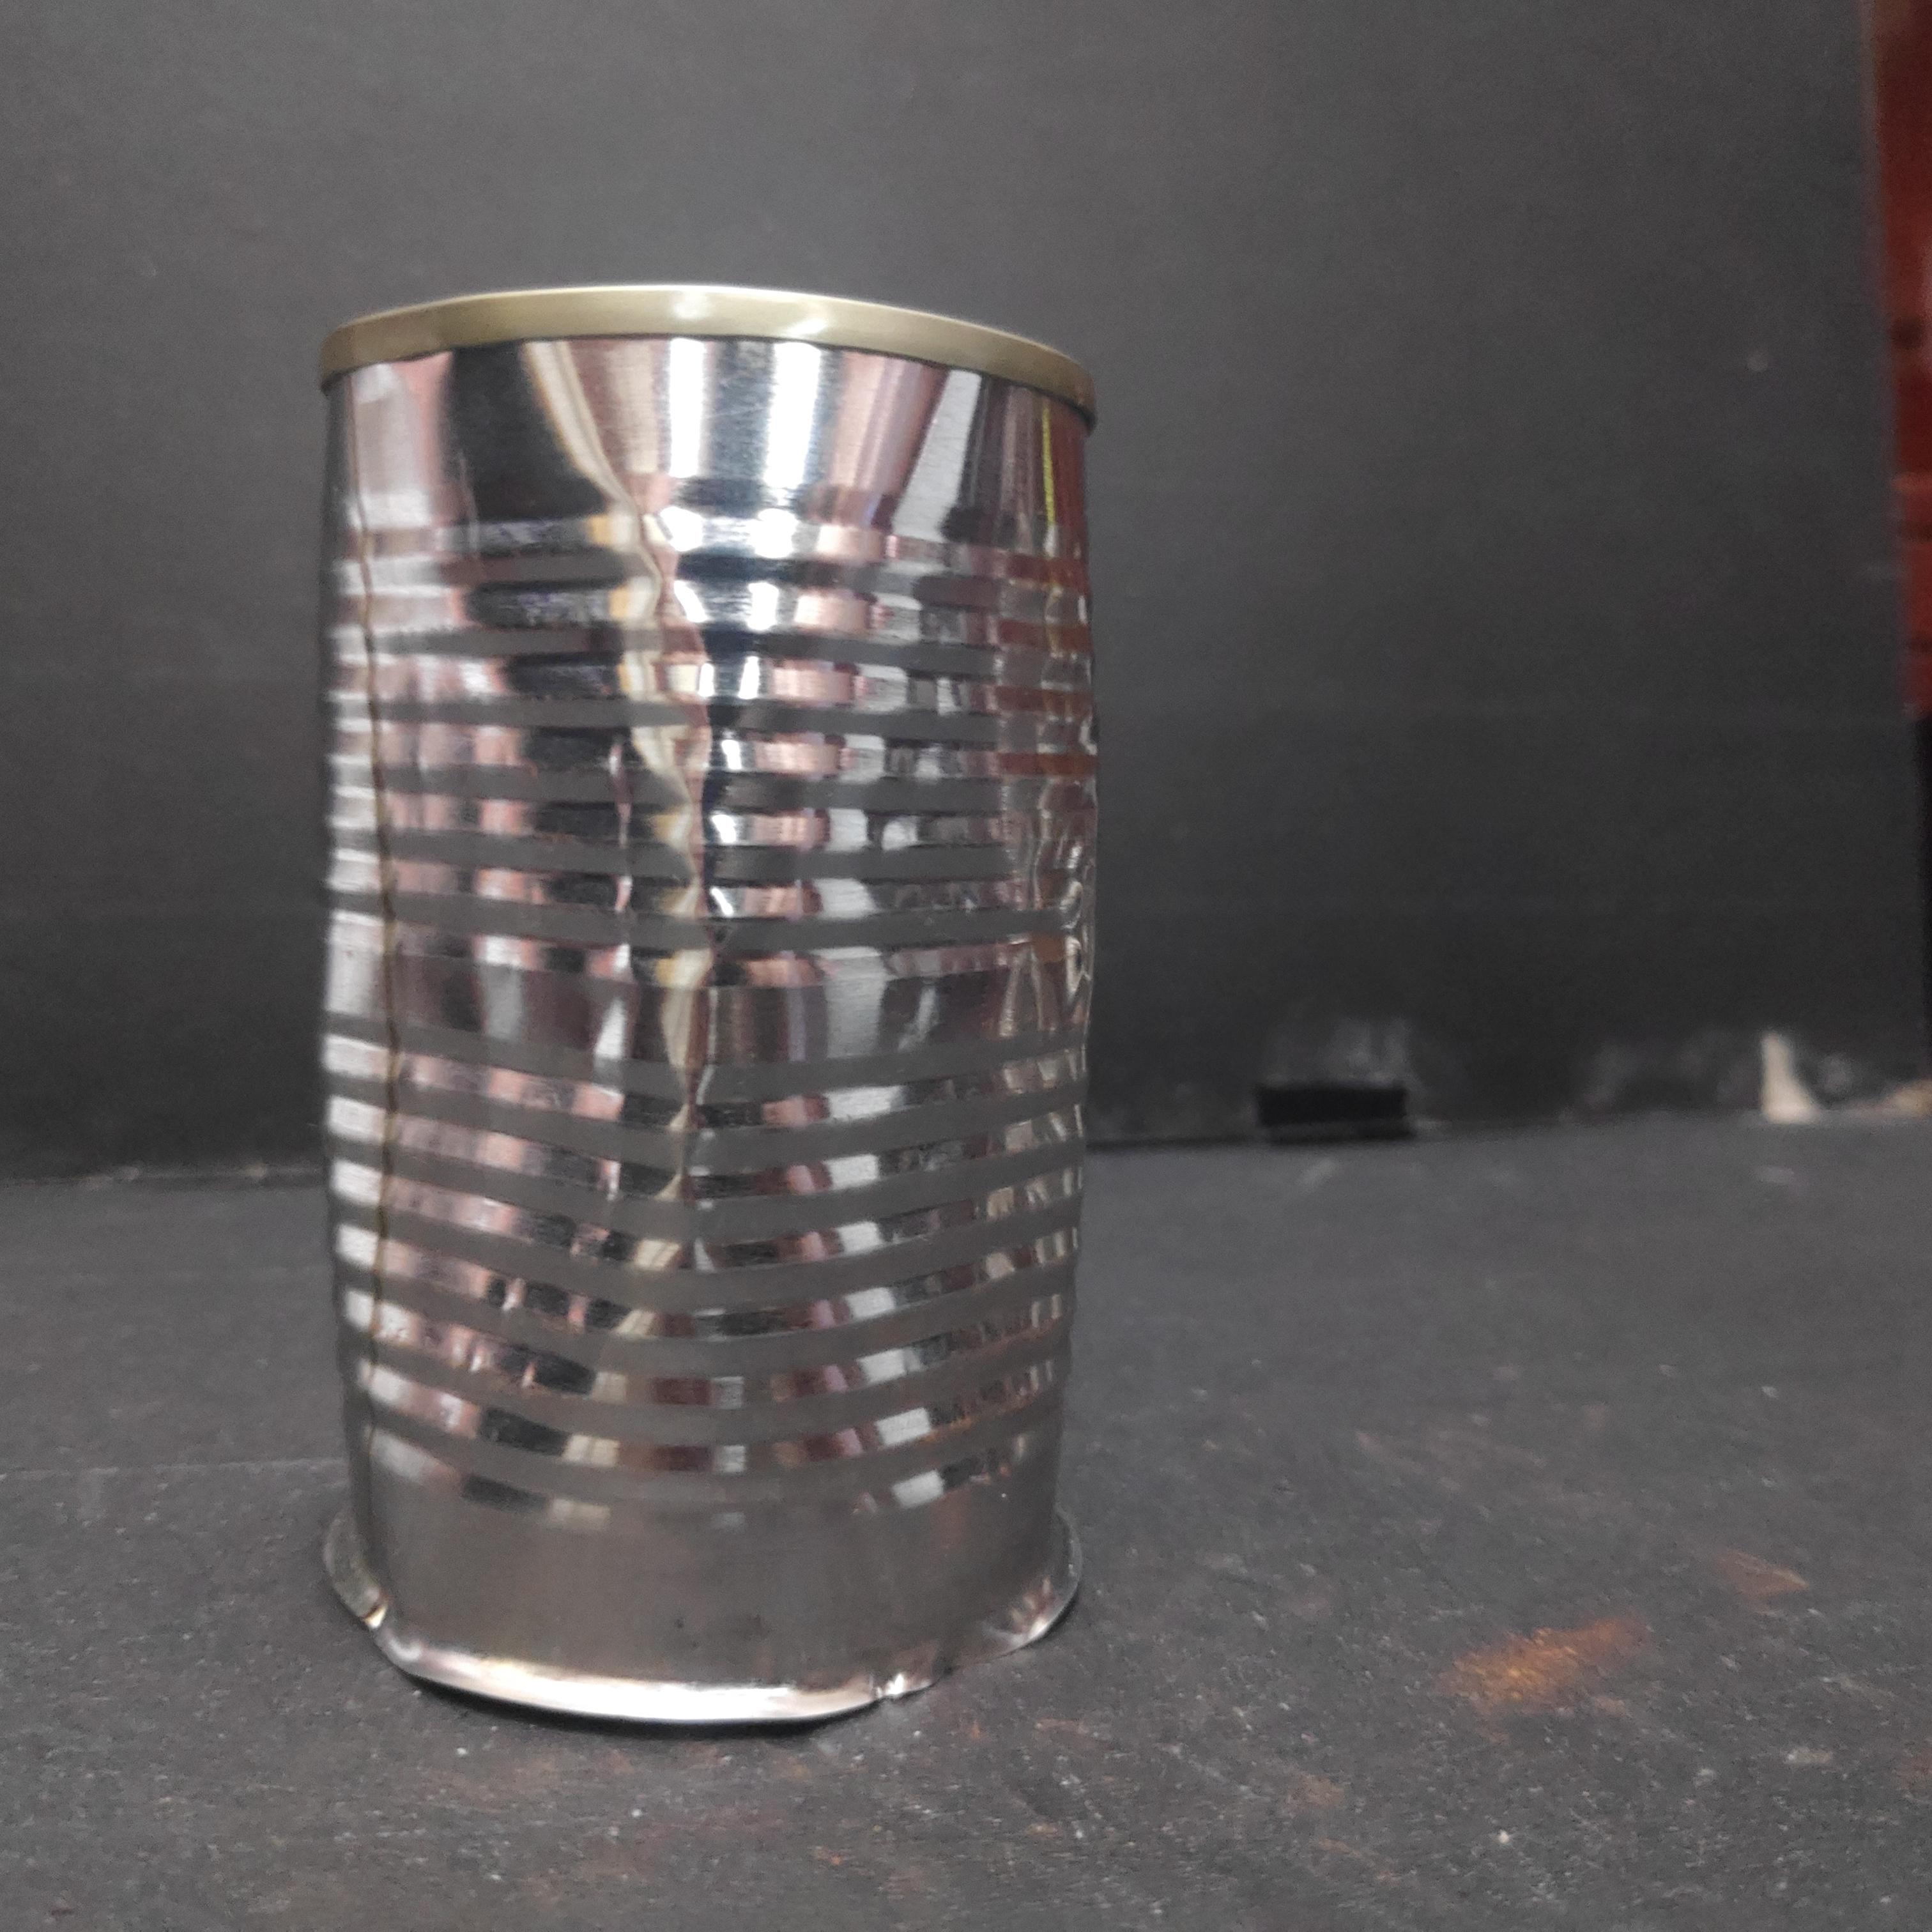Minor Defect: (304, 281, 1129, 1723)
